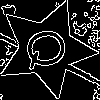Q: (21, 23, 78, 72)
